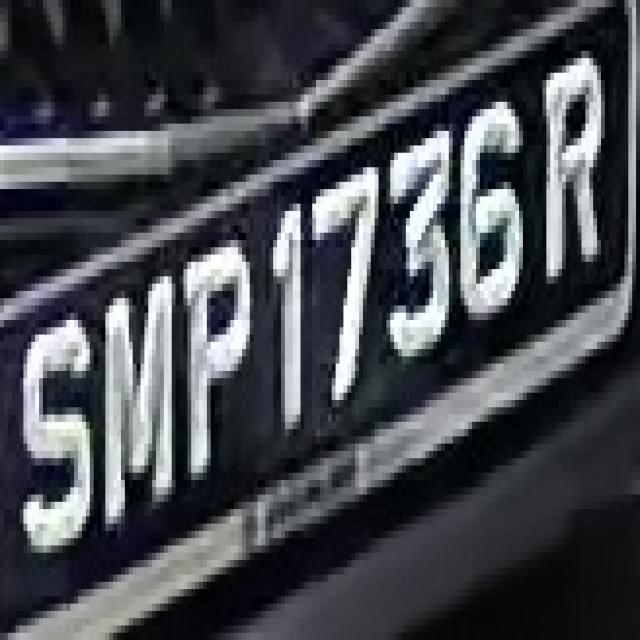1: (262, 168, 304, 466)
3: (378, 95, 452, 392)
6: (453, 66, 527, 334)
7: (316, 138, 394, 422)
M: (102, 255, 180, 509)
P: (184, 218, 262, 509)
R: (534, 29, 616, 320)
S: (12, 284, 102, 567)
